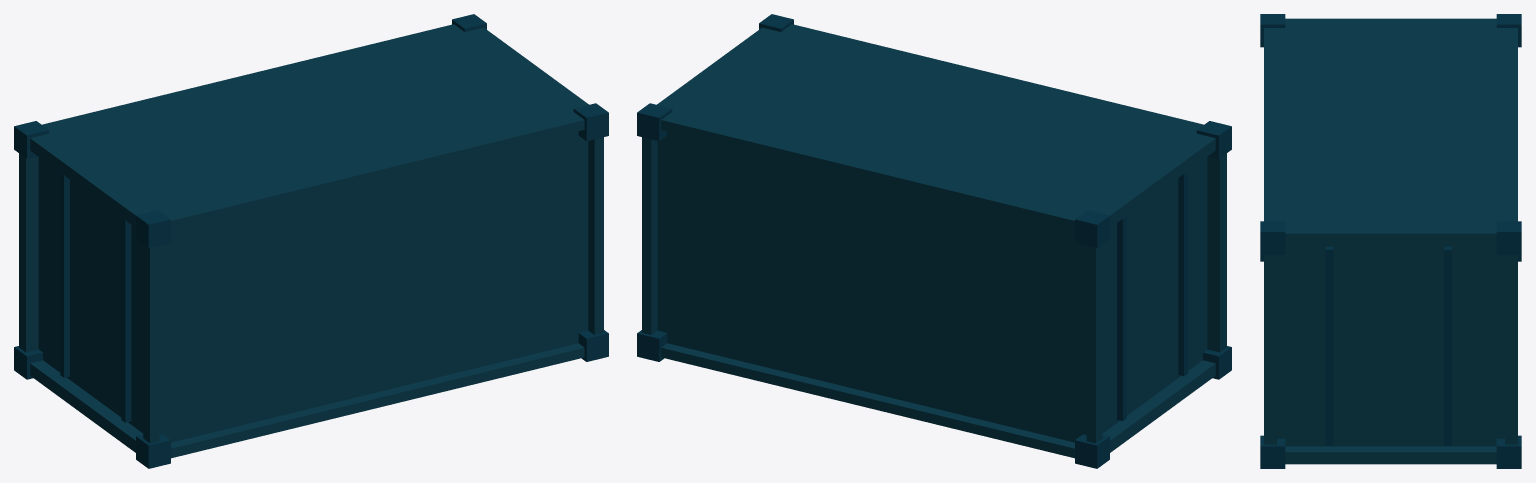
File: container.fbx
3 renders of one model, left to right at view 1: azimuth 30°, elevation 25°; view 2: azimuth 150°, elevation 25°; view 3: azimuth 270°, elevation 25°, orthographic. The views are drawn at different scales.
Visible parts, largest first — view 1: Cube.004; view 2: Cube.004; view 3: Cube.004.
Part boxes in pixels (x1,y1,x2,y2): Cube.004: (14, 14, 608, 468); Cube.004: (637, 14, 1231, 468); Cube.004: (1260, 14, 1521, 468).
Size of the model in its own units: 406 by 206 by 206.
